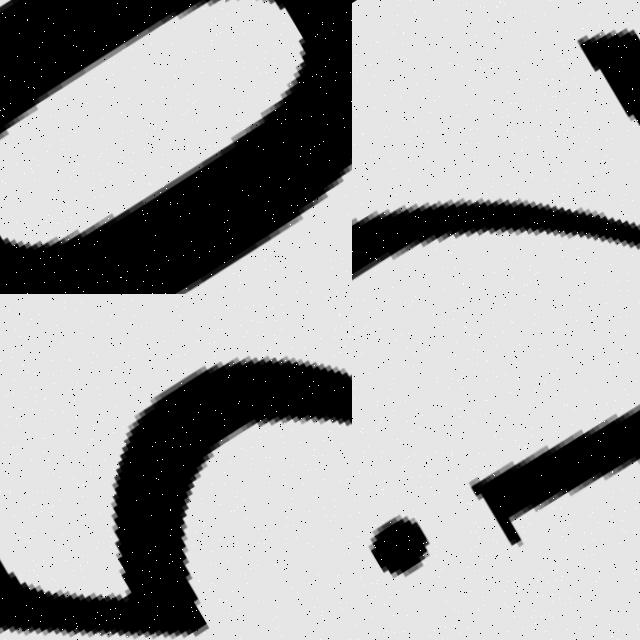0: (0, 0, 352, 294)
2: (352, 7, 640, 294)
5: (0, 294, 352, 640)
J: (352, 294, 640, 640)
